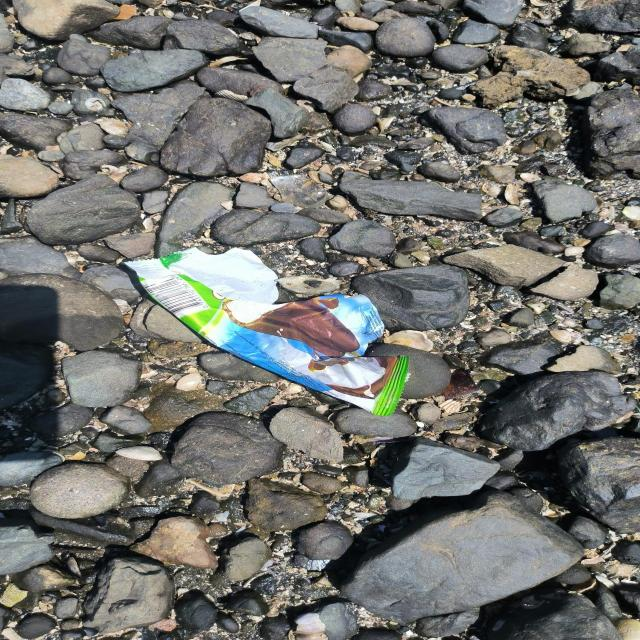plastic_waste: (121, 246, 412, 418)
